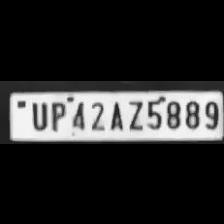2: (86, 98, 106, 130)
4: (68, 98, 86, 130)
5: (144, 96, 162, 128)
8: (164, 97, 182, 129), (183, 97, 201, 129)
9: (201, 97, 221, 129)
A: (106, 98, 122, 130)
P: (47, 98, 66, 130)
U: (28, 98, 48, 130)
Z: (124, 96, 144, 130)
